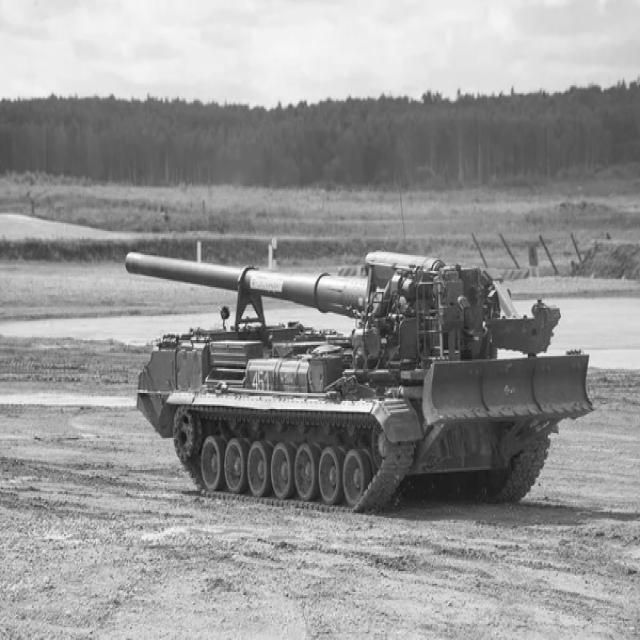Tank: (123, 237, 600, 518)
